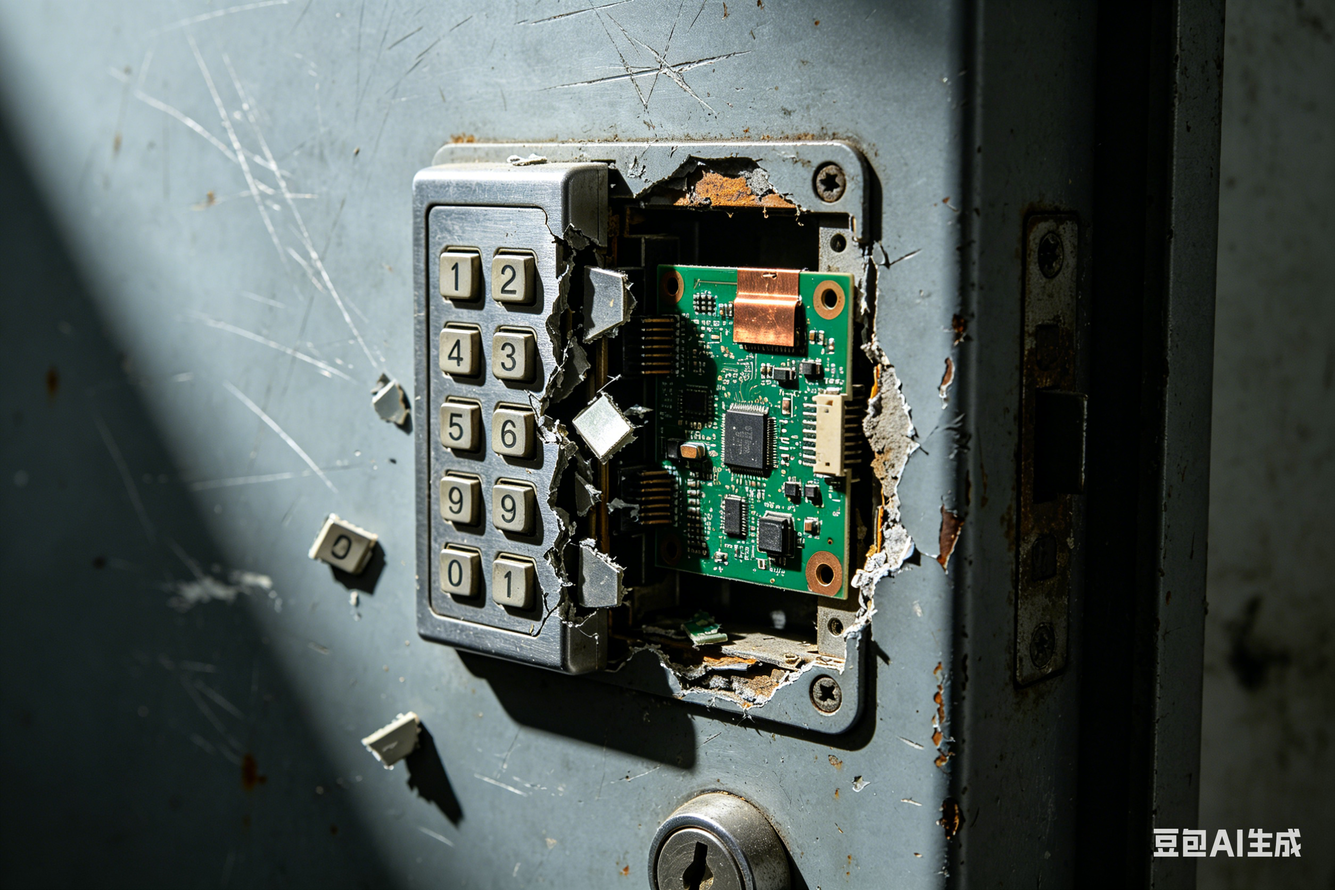BadLock: (543, 174, 690, 674), (703, 597, 866, 719)
